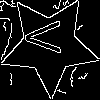V: (24, 20, 70, 55)
